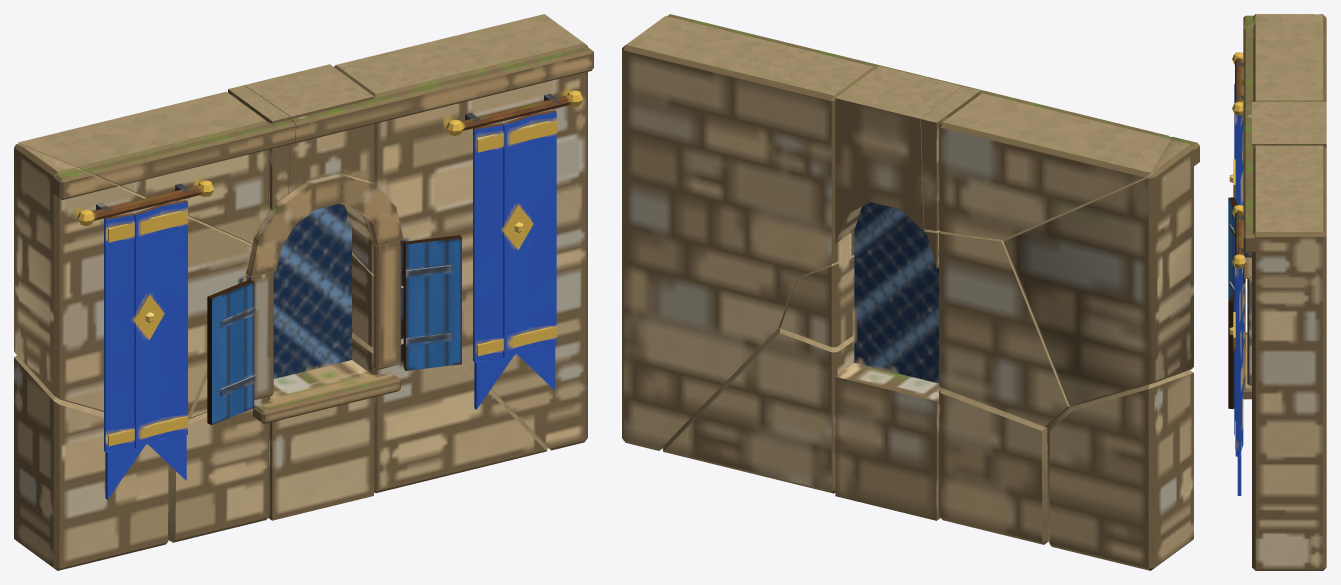
The model's file is Kit_Keep_WallBanner_Fractured.fbx.
3 views of the same model, side by side, from view 1: azimuth 30°, elevation 25°; view 2: azimuth 150°, elevation 25°; view 3: azimuth 270°, elevation 25° (orthographic). The views are drawn at different scales.
Parts seen in each view (by area): view 1: Kit_Keep_WallBanner_frag_02, Kit_Keep_WallBanner_frag_03, Kit_Keep_WallBanner_frag_05, Kit_Keep_WallBanner_frag_04, Kit_Keep_WallBanner_frag_06, Kit_Keep_WallBanner_frag_07, Kit_Keep_WallBanner_frag_01; view 2: Kit_Keep_WallBanner_frag_02, Kit_Keep_WallBanner_frag_05, Kit_Keep_WallBanner_frag_01, Kit_Keep_WallBanner_frag_03, Kit_Keep_WallBanner_frag_04, Kit_Keep_WallBanner_frag_06, Kit_Keep_WallBanner_frag_07; view 3: Kit_Keep_WallBanner_frag_02, Kit_Keep_WallBanner_frag_06, Kit_Keep_WallBanner_frag_04, Kit_Keep_WallBanner_frag_03, Kit_Keep_WallBanner_frag_01, Kit_Keep_WallBanner_frag_05.
Boxes of the visible parts, x1,y1,x2,y2 form: Kit_Keep_WallBanner_frag_02: [403, 14, 593, 450]; Kit_Keep_WallBanner_frag_03: [14, 144, 255, 452]; Kit_Keep_WallBanner_frag_05: [168, 332, 547, 542]; Kit_Keep_WallBanner_frag_04: [244, 46, 467, 286]; Kit_Keep_WallBanner_frag_06: [18, 85, 295, 246]; Kit_Keep_WallBanner_frag_07: [14, 355, 186, 570]; Kit_Keep_WallBanner_frag_01: [188, 204, 451, 419]; Kit_Keep_WallBanner_frag_02: [622, 14, 796, 450]; Kit_Keep_WallBanner_frag_05: [662, 328, 1048, 544]; Kit_Keep_WallBanner_frag_01: [779, 202, 1069, 427]; Kit_Keep_WallBanner_frag_03: [1003, 136, 1199, 406]; Kit_Keep_WallBanner_frag_04: [758, 44, 965, 277]; Kit_Keep_WallBanner_frag_06: [921, 86, 1170, 239]; Kit_Keep_WallBanner_frag_07: [1047, 370, 1193, 570]; Kit_Keep_WallBanner_frag_02: [1228, 176, 1326, 570]; Kit_Keep_WallBanner_frag_06: [1232, 14, 1326, 115]; Kit_Keep_WallBanner_frag_04: [1232, 108, 1326, 278]; Kit_Keep_WallBanner_frag_03: [1228, 14, 1326, 300]; Kit_Keep_WallBanner_frag_01: [1229, 279, 1251, 385]; Kit_Keep_WallBanner_frag_05: [1243, 332, 1251, 399].
Size of what is drawn, in the model's own units: 4.2 by 3 by 0.7899.
Materials: 2 (2 with a texture image).
